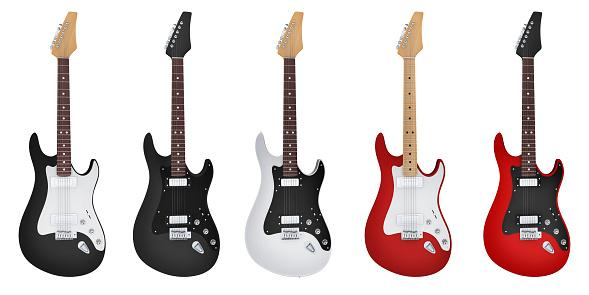acousticguitar: (128, 7, 226, 279), (15, 10, 108, 276), (242, 6, 332, 277), (482, 8, 572, 277), (363, 5, 451, 276)
